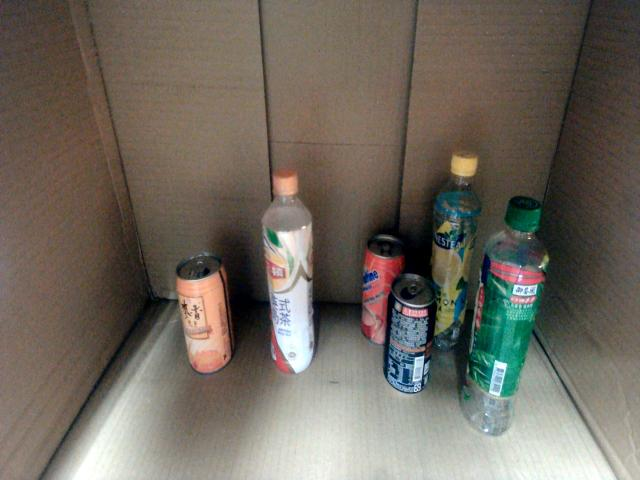Canned_drinks: (174, 250, 240, 377), (382, 272, 434, 395), (360, 232, 410, 346)
bottle: (456, 192, 550, 437), (260, 169, 318, 376), (429, 146, 482, 350)
